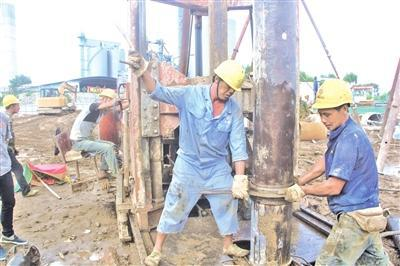helmet: (311, 77, 357, 130), (208, 56, 251, 106), (93, 87, 121, 110), (2, 92, 22, 116)
